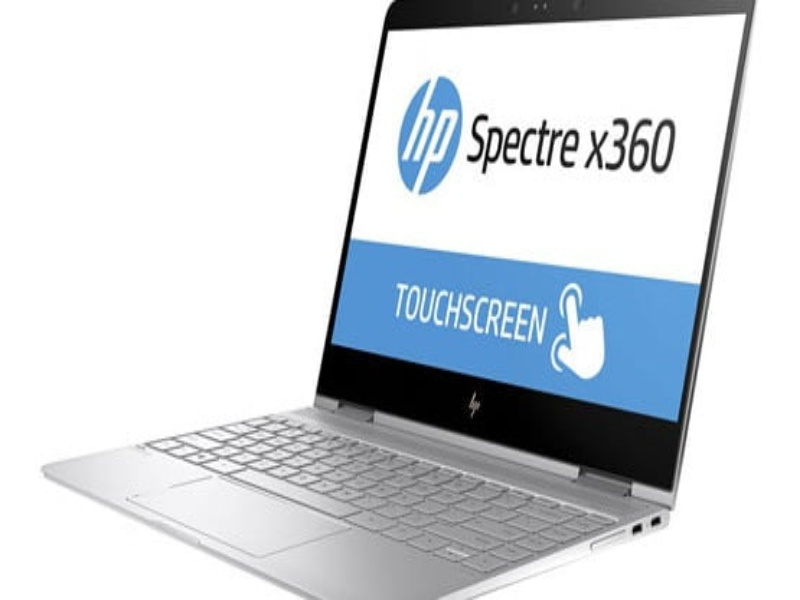hp: (398, 79, 456, 194)
